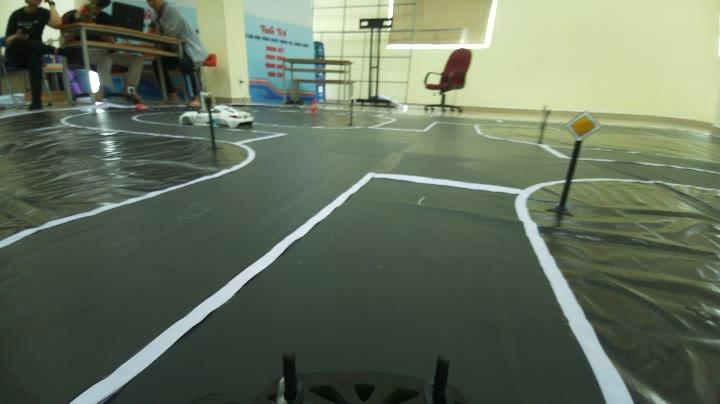priority: (560, 105, 602, 144)
